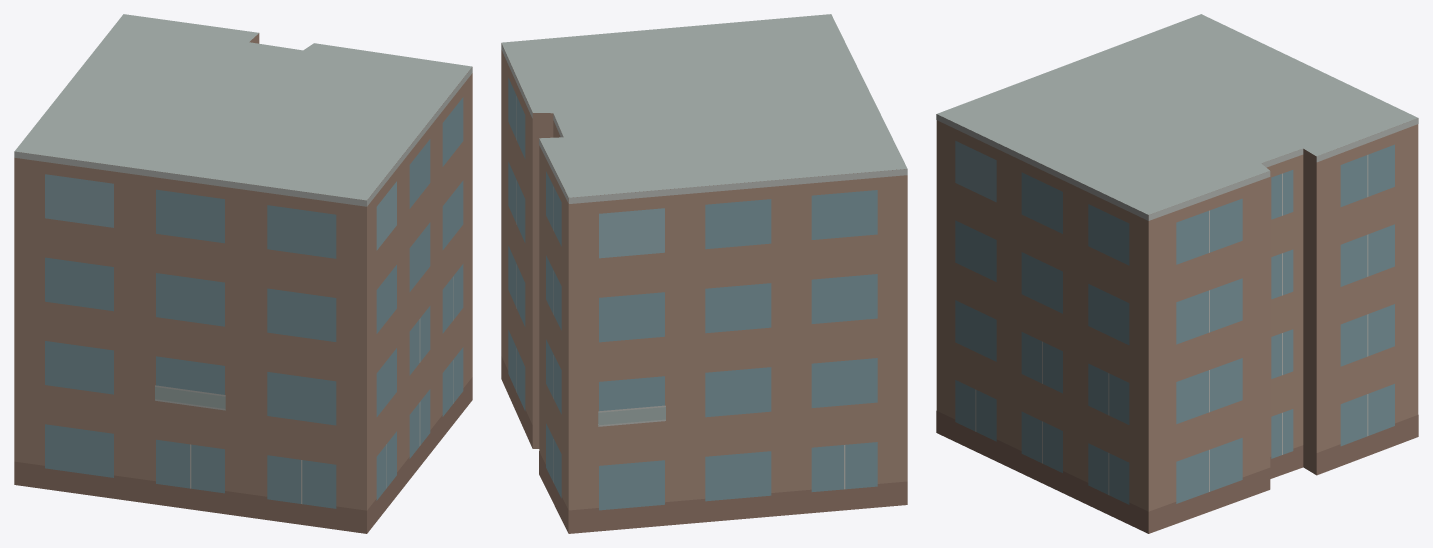
Rendered from survey-upis-32680179.glb.
The picture shows the model from 3 angles, left to right: view 1: azimuth 30°, elevation 25°; view 2: azimuth 150°, elevation 25°; view 3: azimuth 270°, elevation 25°; orthographic projection. The views are drawn at different scales.
Parts seen in each view (by area): view 1: survey-upis-32680179.tmp; view 2: survey-upis-32680179.tmp; view 3: survey-upis-32680179.tmp.
Boxes of the visible parts, x1,y1,x2,y2 form: survey-upis-32680179.tmp: (14,14,472,533); survey-upis-32680179.tmp: (501,14,907,533); survey-upis-32680179.tmp: (936,14,1418,533).
Bounding box in the file's own units: 17.44 × 12.9 × 17.67.
